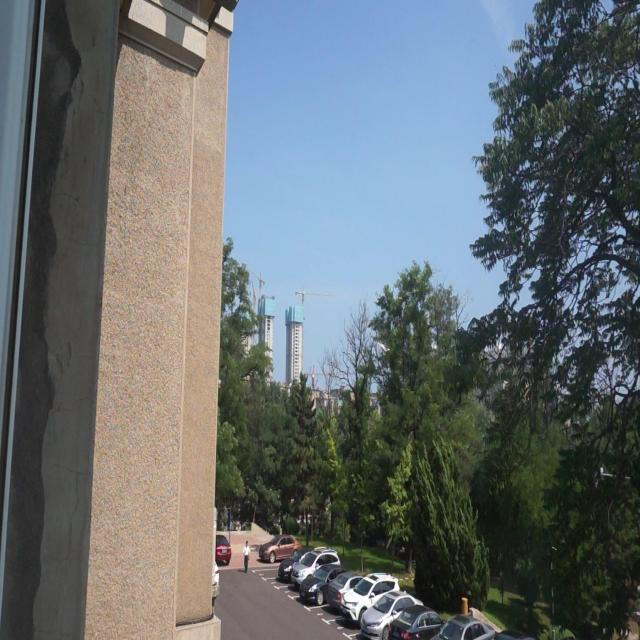UAV: (378, 342, 390, 355)
